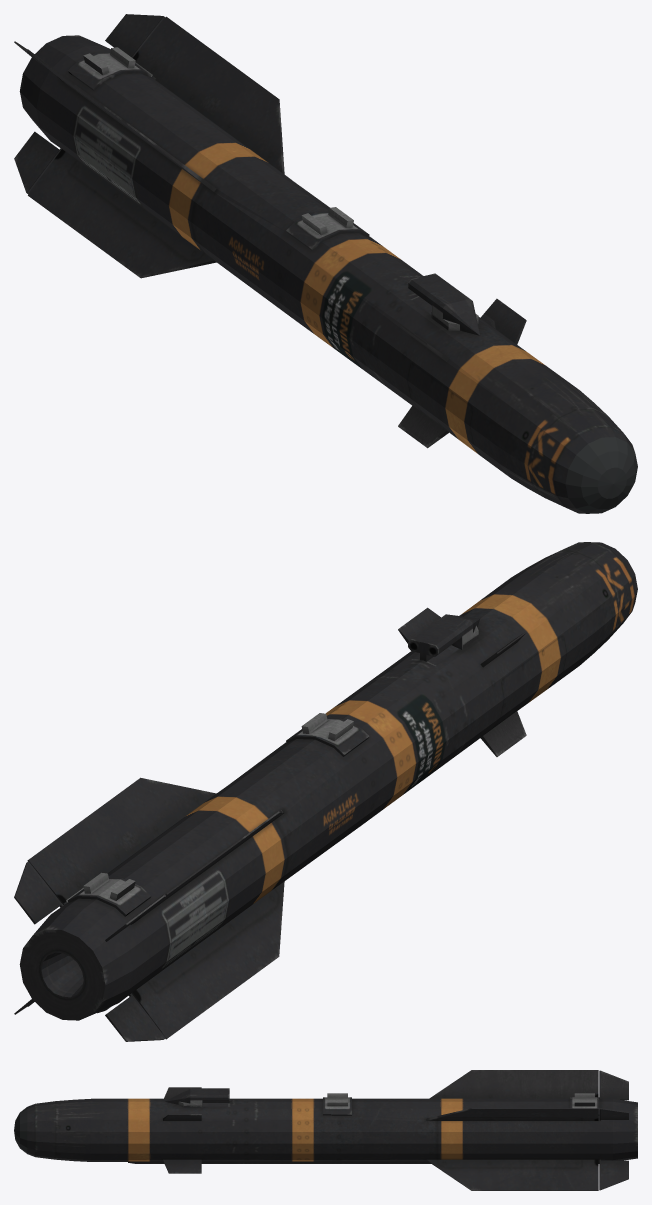
File: AGM-114.obj
3 views of the same model, one above another, from view 1: azimuth 30°, elevation 25°; view 2: azimuth 150°, elevation 25°; view 3: azimuth 270°, elevation 25° (orthographic). The views are drawn at different scales.
Parts seen in each view (by area): view 1: AGM114; view 2: AGM114; view 3: AGM114.
Part boxes in pixels (left/top/right/bottom): AGM114: left=14, top=14, right=637, bottom=513; AGM114: left=14, top=542, right=637, bottom=1041; AGM114: left=14, top=1070, right=637, bottom=1190.
Bounding box in the file's own units: 0.2384 × 0.2378 × 1.62.
1 material, 1 textured.
